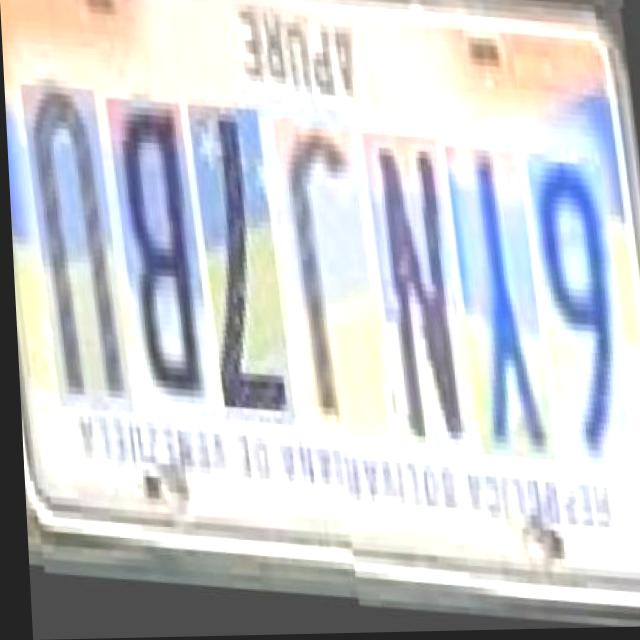6: (532, 163, 636, 473)
7: (194, 121, 295, 444)
b: (113, 115, 218, 440)
j: (280, 132, 388, 450)
n: (368, 138, 474, 463)
u: (27, 103, 134, 435)
y: (449, 150, 554, 468)
